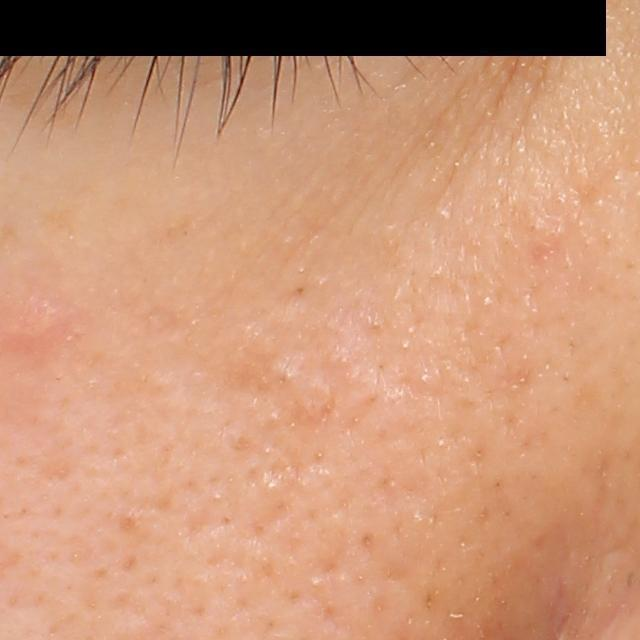comedo: (271, 357, 295, 391)
